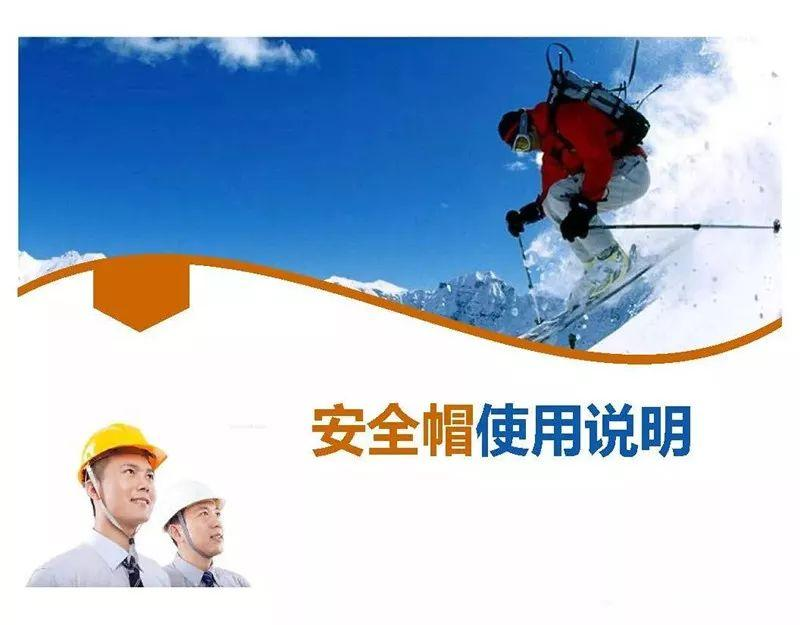helmet: (77, 421, 171, 477), (156, 478, 226, 530)
